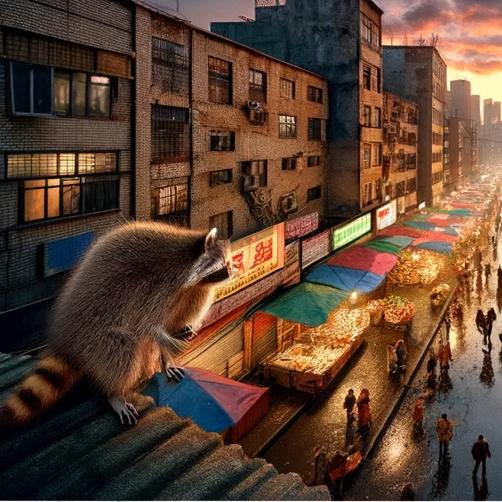raccoon: (0, 212, 249, 447)
